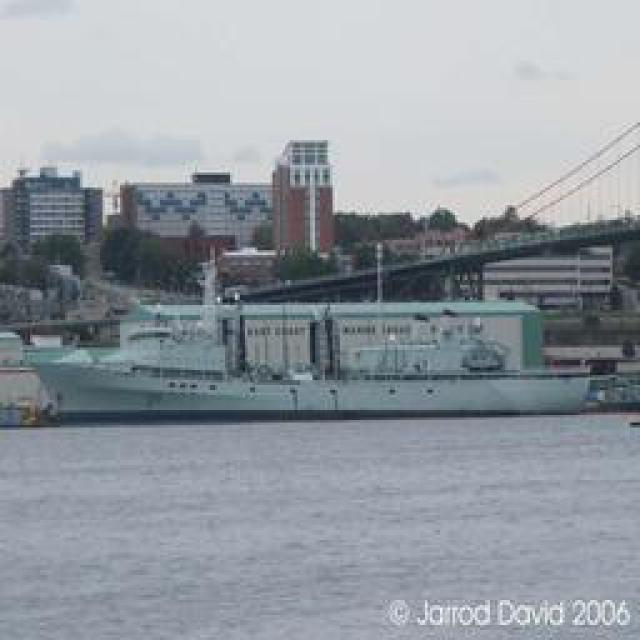Ship: (28, 314, 606, 419)
